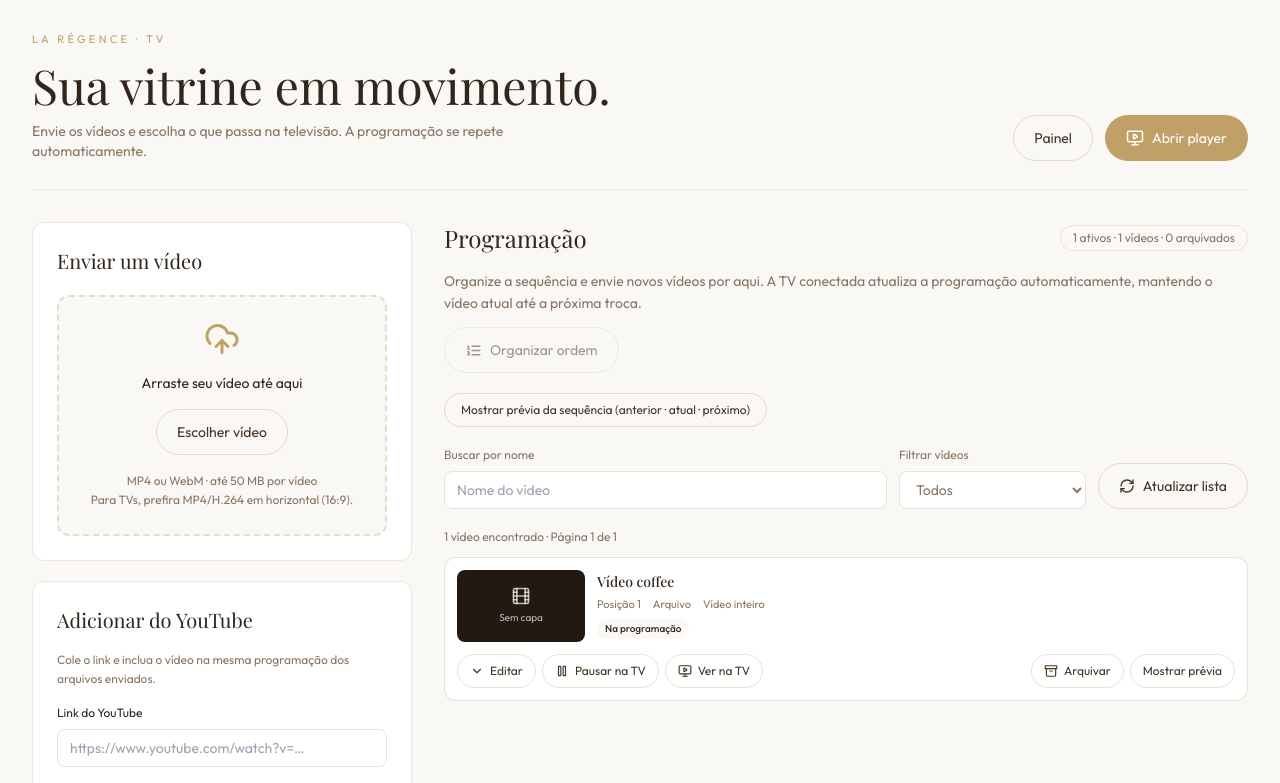
Test: rejects an invalid per-video limit of 0 seconds
The image size is (1280, 783).
Step 1. Click the button "Editar" → [496, 671], box [457,654,536,688]
(page scrolled)
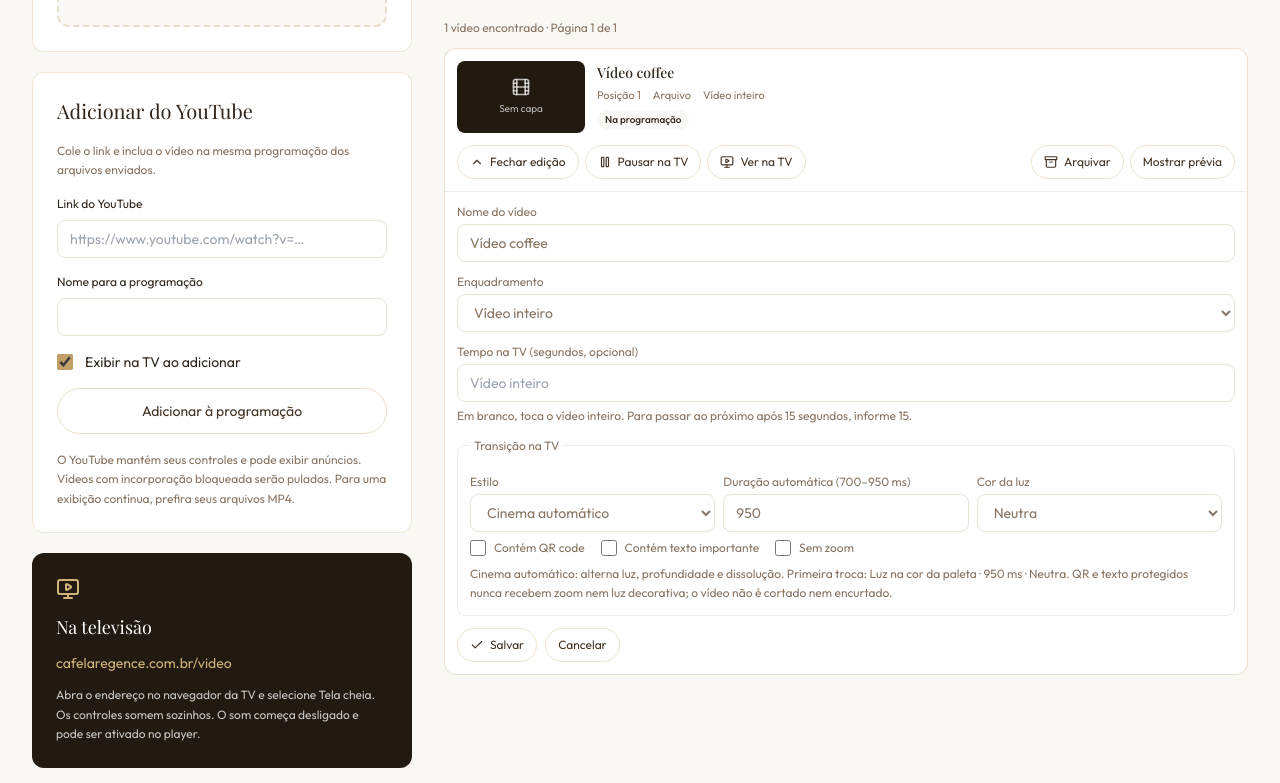
Step 2. Type "0" into the number field labelled "Tempo na TV (segundos, opcional)" → [846, 383], box [457,364,1235,402]
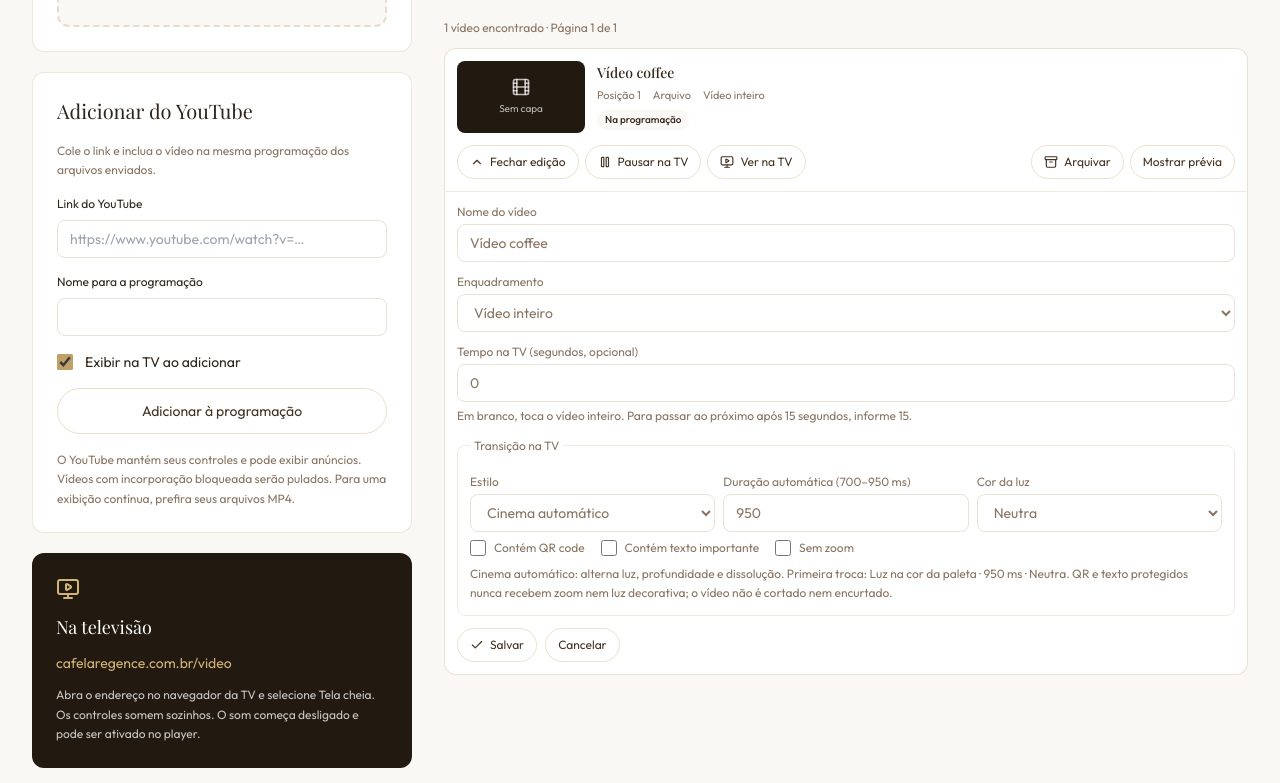
Step 3. Click the button "Salvar" → [497, 645], box [457,628,537,662]
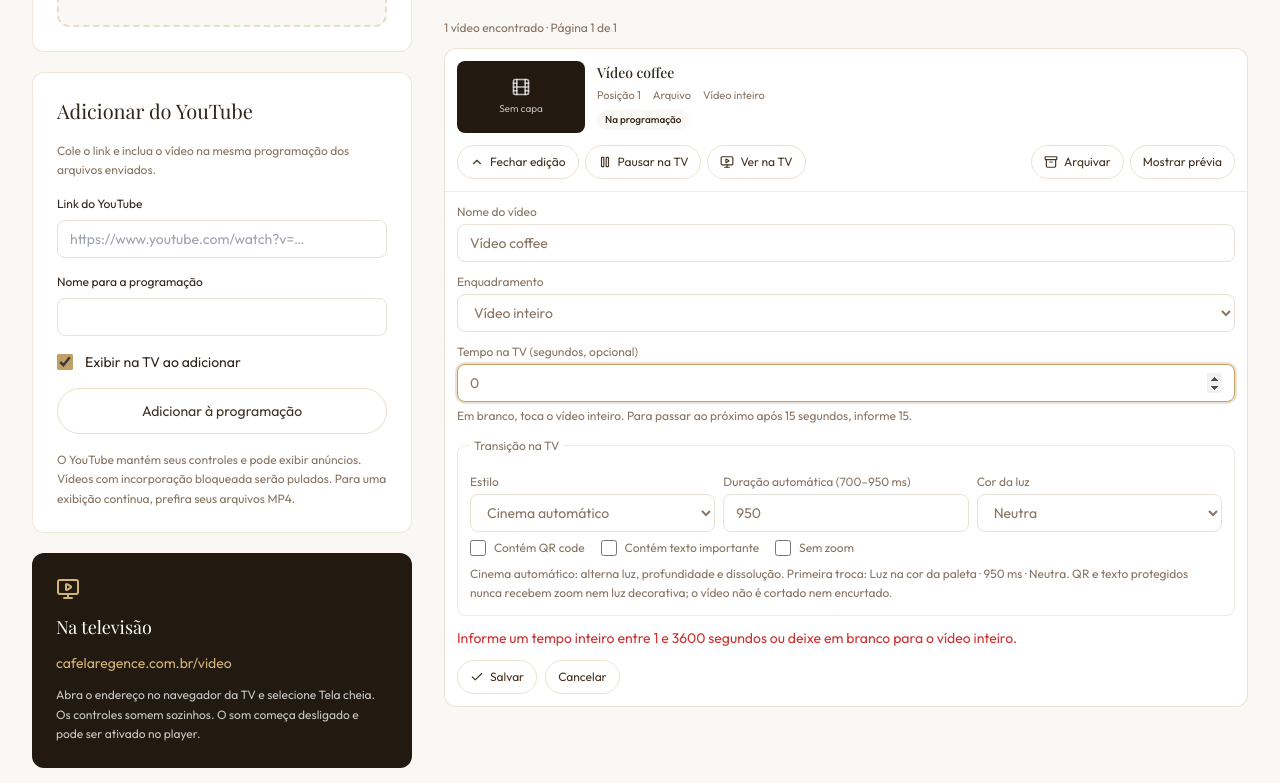
Check: the 2nd message shows "entre 1 e 3600 segundos", box [457,629,1017,647]
